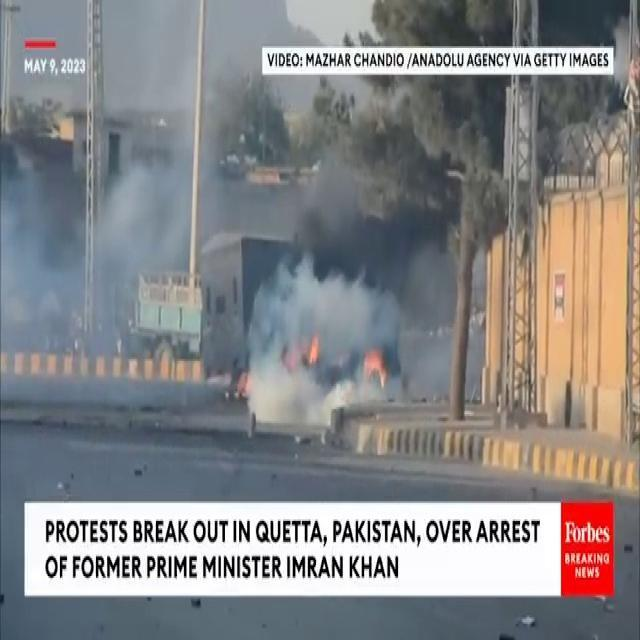Fire: (360, 343, 390, 391)
Smoke: (0, 96, 238, 372), (242, 197, 416, 400)
